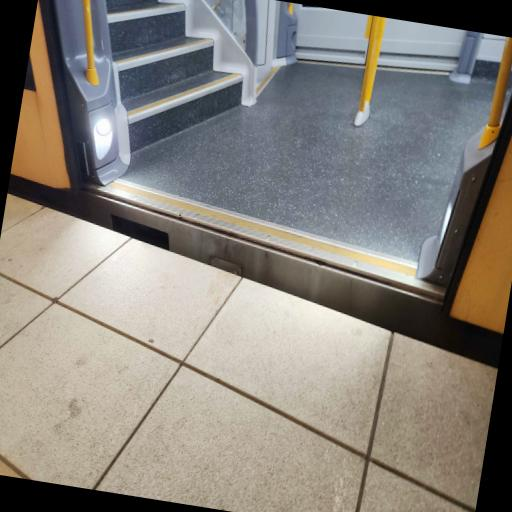gap: (7, 165, 503, 369)
